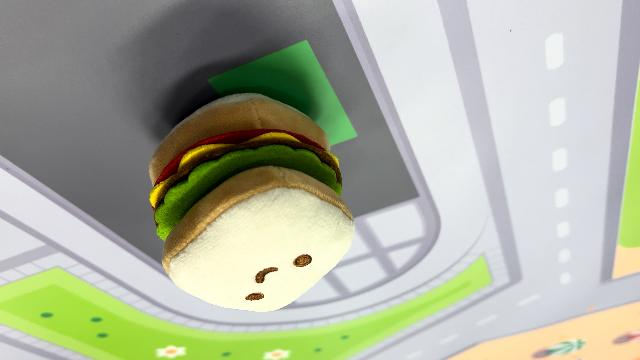sandwich: (146, 90, 358, 312)
